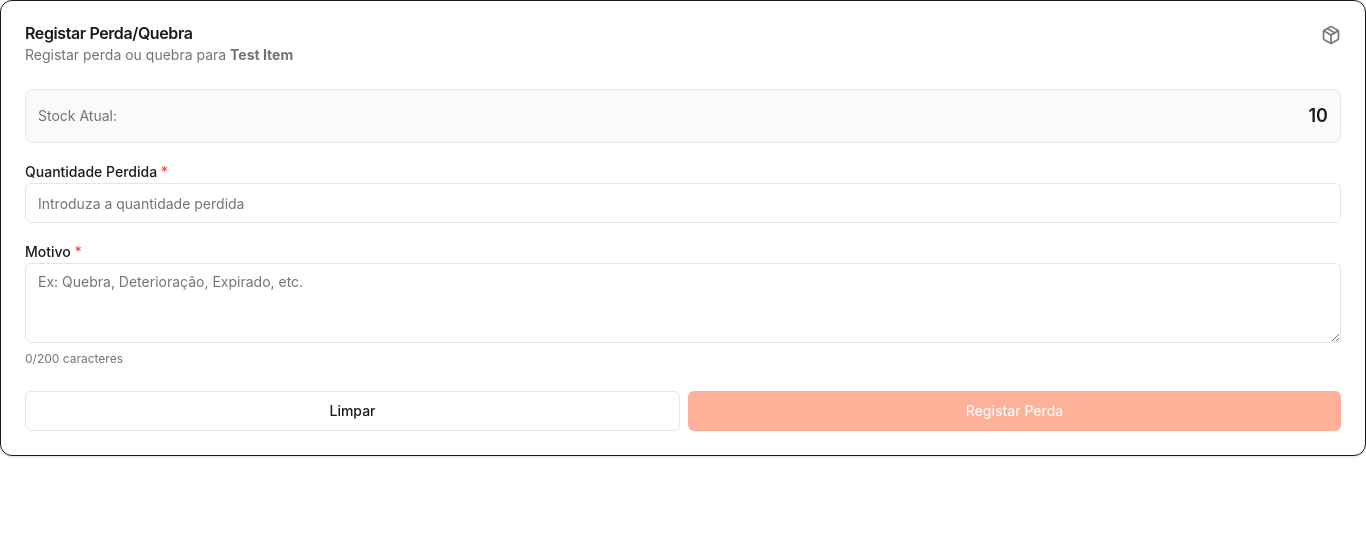
Scenario: LossRecordForm › shows warning when quantity exceeds stock
This screenshot has width=1366, height=536.
Note: Enter quantity exceeding stock
Step 1. Type "15" into the number field labelled "Quantidade Perdida *" → (683, 203), box [25, 183, 1341, 223]
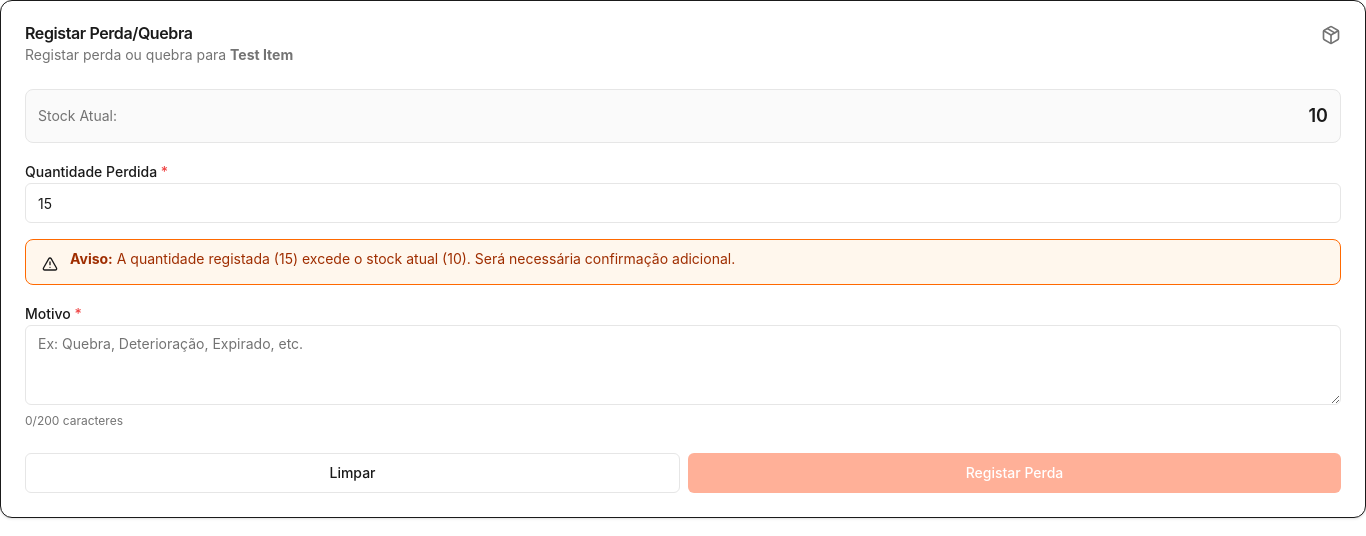
Expected: the text "Aviso:" is shown, [70, 250, 113, 267]
Expected: the text "excede o stock atual" is shown, [293, 250, 447, 267]
